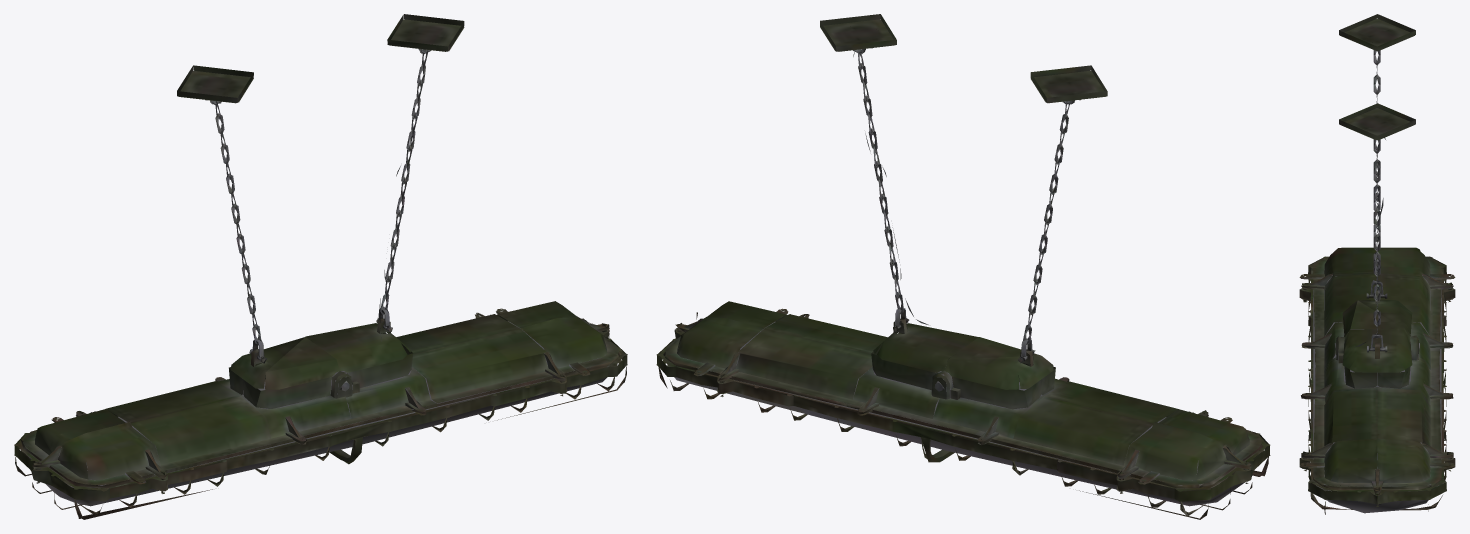
The model's file is hanging_lamp.glb.
3 renders of one model, left to right at view 1: azimuth 30°, elevation 25°; view 2: azimuth 150°, elevation 25°; view 3: azimuth 270°, elevation 25°, orthographic. The views are drawn at different scales.
Visible parts, largest first — view 1: caged_hanging_light; view 2: caged_hanging_light; view 3: caged_hanging_light.
Part boxes in pixels (x1,y1,x2,y2): caged_hanging_light: (14,14,627,519); caged_hanging_light: (656,14,1270,519); caged_hanging_light: (1299,14,1455,514).
Bounding box in the file's own units: 1.17 × 0.7501 × 0.3147.
1 material, 1 textured.
